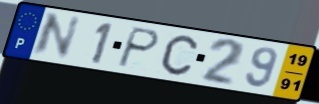1: (89, 21, 114, 65)
2: (200, 38, 247, 88)
9: (243, 46, 280, 89)
C: (160, 33, 200, 77)
N: (29, 12, 83, 60)
P: (114, 26, 162, 70)
